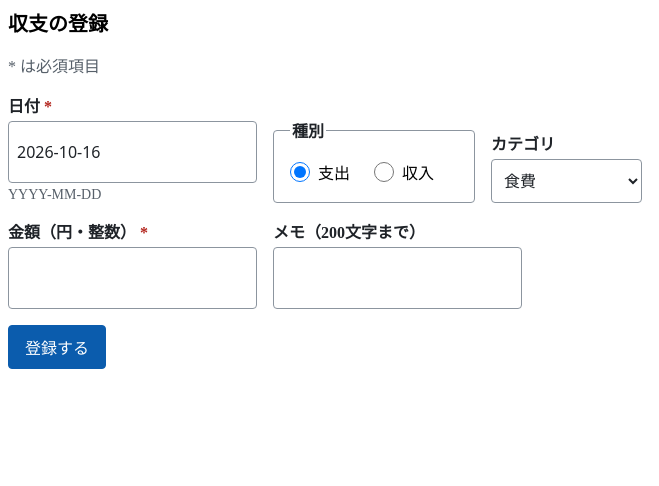
Test case: 収支の登録フォーム › 保存に失敗したら、入力を残し、一覧には追加しない（BR8.3）
Type "700" into the field labelled "金額（円・整数）" at (132, 278), box left=8, top=247, right=257, bottom=309
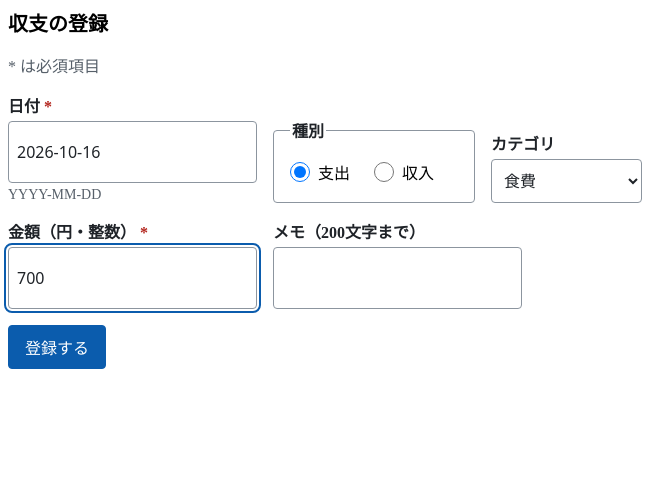
Click the button "登録する" at (57, 347), box left=8, top=325, right=106, bottom=369
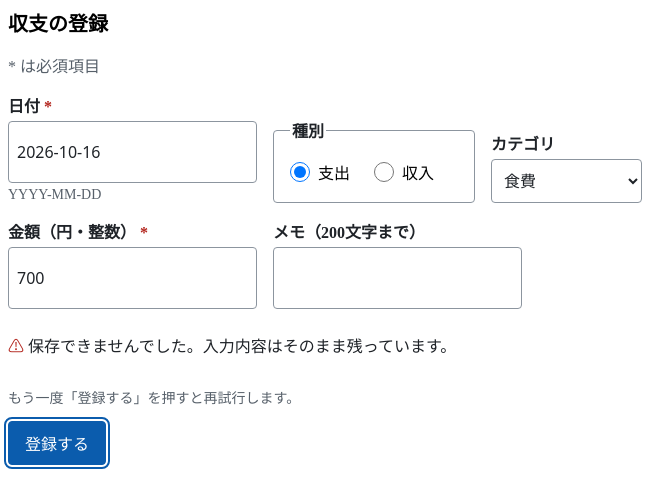
expect the text "保存できませんでした。入力内容はそのまま残っています。" is shown: met, box left=28, top=338, right=456, bottom=355
expect the text "もう一度「登録する」を押すと再試行します。" is shown: met, box left=8, top=391, right=300, bottom=406
